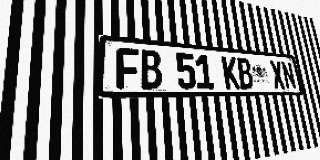1: (194, 54, 214, 89)
5: (175, 52, 197, 89)
B: (139, 49, 163, 89), (236, 57, 254, 89)
F: (116, 47, 140, 89)
K: (221, 56, 240, 89)
N: (280, 61, 297, 89)
X: (269, 60, 286, 89)
